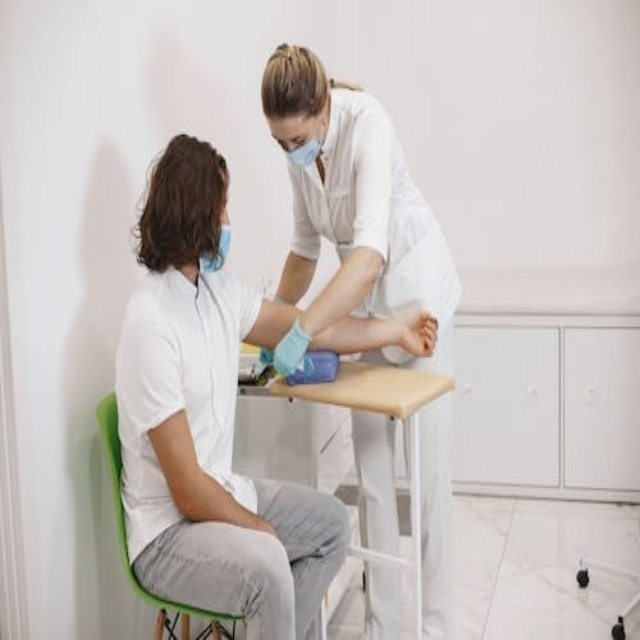Guantes: (273, 319, 312, 382)
Mascara: (284, 121, 324, 168), (201, 225, 232, 273)
Sin_gafas: (265, 125, 311, 152)
Sin_guantes: (398, 308, 438, 360)
